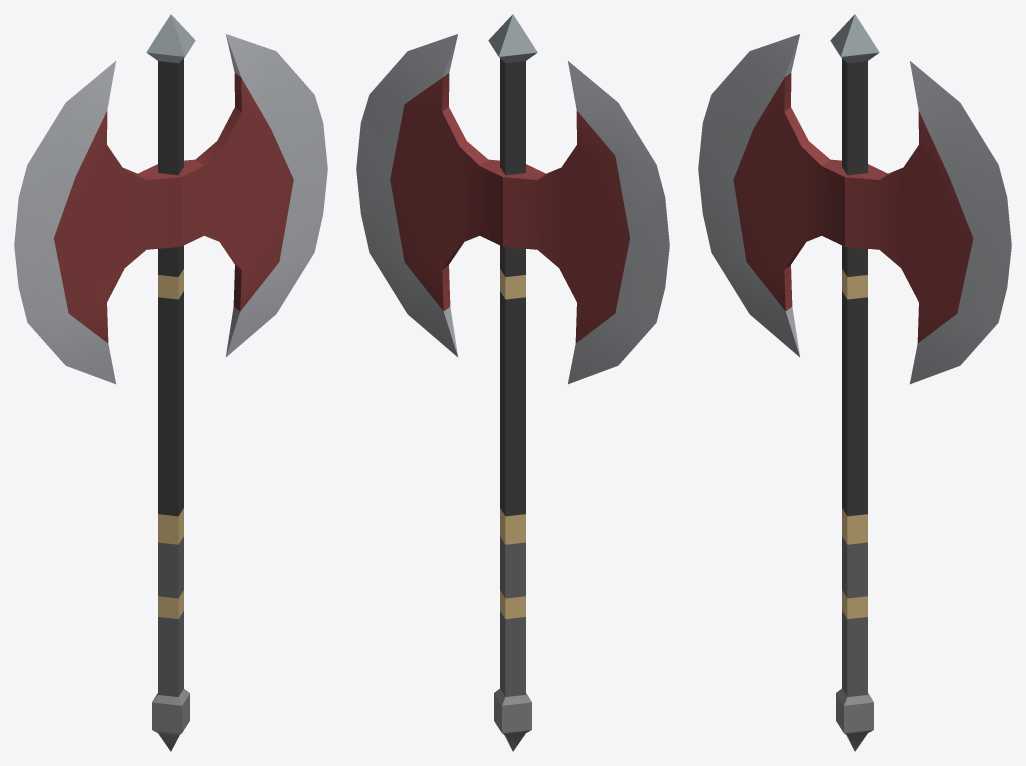
Rendered from Axe_7.fbx.
The picture shows the model from 3 angles, left to right: view 1: azimuth 30°, elevation 25°; view 2: azimuth 150°, elevation 25°; view 3: azimuth 330°, elevation 25°; orthographic projection.
Parts seen in each view (by area): view 1: polySurface199; view 2: polySurface199; view 3: polySurface199.
Part boxes in pixels (x1,y1,x2,y2): polySurface199: (14, 14, 327, 751); polySurface199: (356, 14, 669, 751); polySurface199: (698, 14, 1011, 751).
Size of the model in its own units: 145 by 325 by 22.81.
